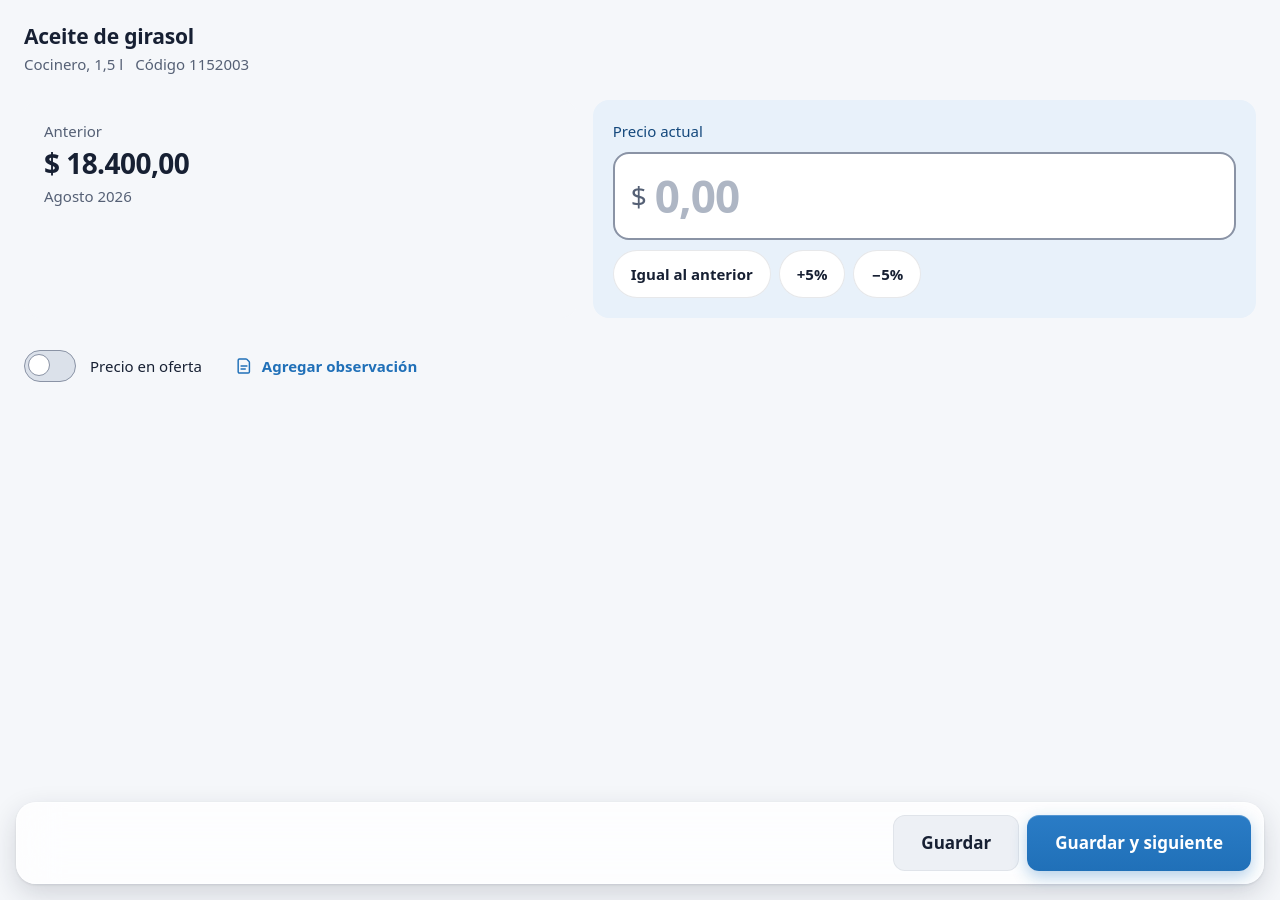
Test: PriceEditor › blocks invalid values with an inline error
Type "0" into the field labelled "Precio actual" at (936, 196), box [655,170,1218,223]
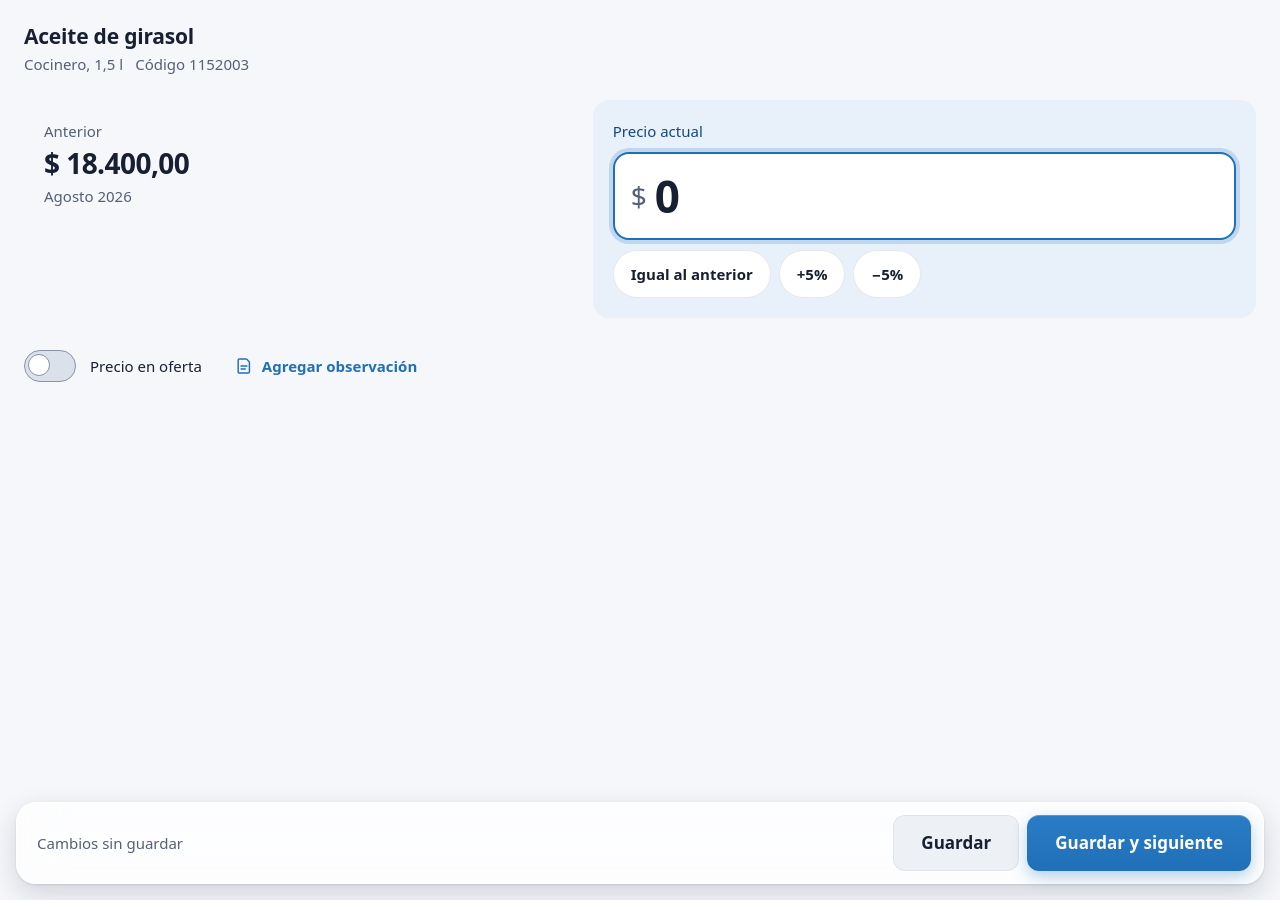
Click the button "Guardar" at (956, 843), box [893,815,1019,871]
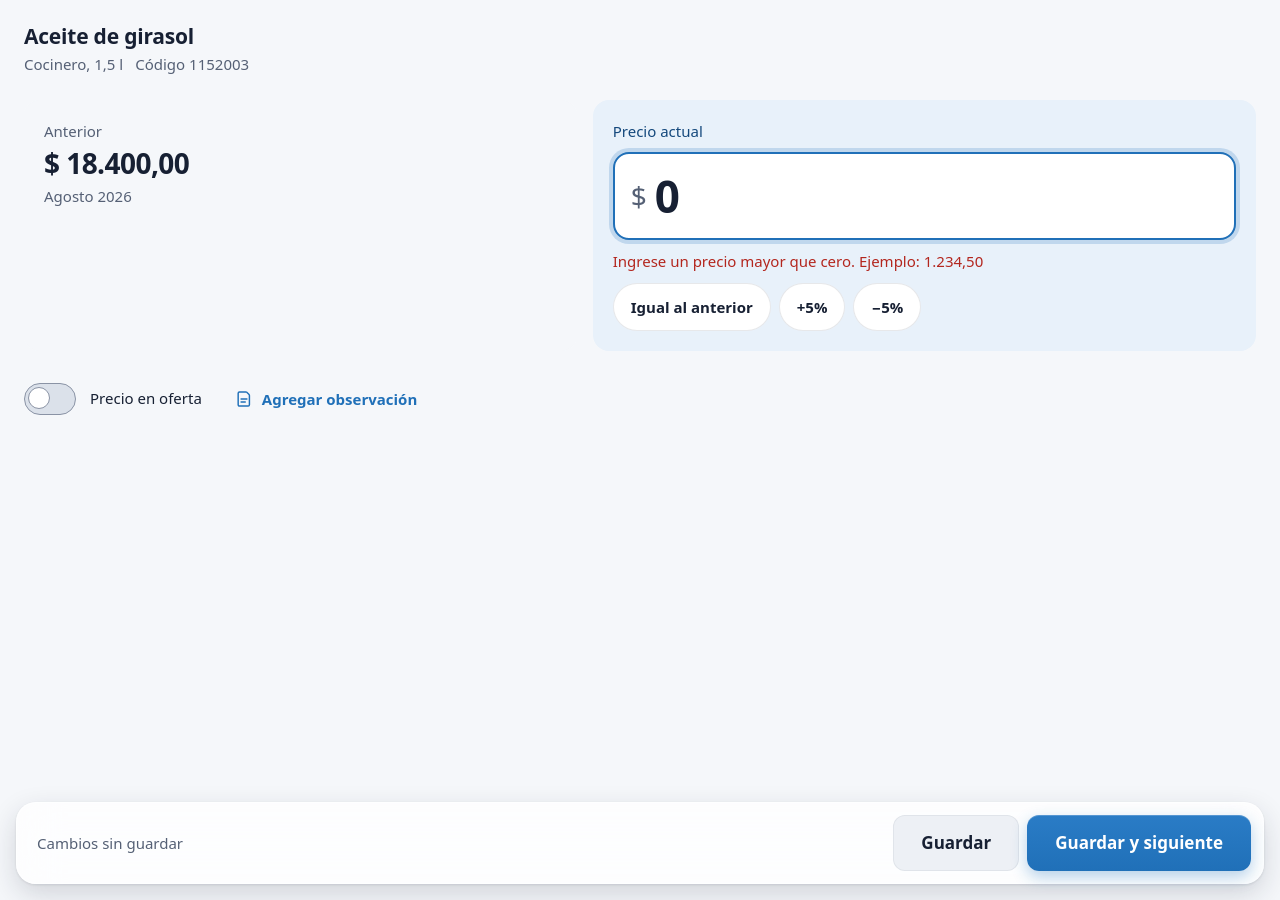
Now the text "Ingrese un precio mayor que cero. Ejemplo: 1.234,50" is shown, box [613,251,983,271]
